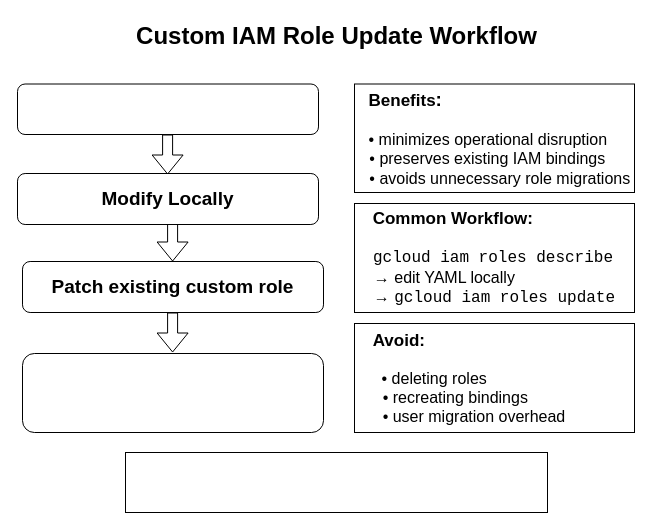
The diagram is 652 pixels wide and 530 high, and some of its shapes have lost their labels. The centre of each missing label's shape, as x and y in pixels:
ACE Pattern: Update existing custom roles instead of recreating them.: point (336, 482)
Export Existing Custom Role: point (167, 108)
Updated custom IAM role deployed safely without reassigning users or resources.: point (173, 392)
